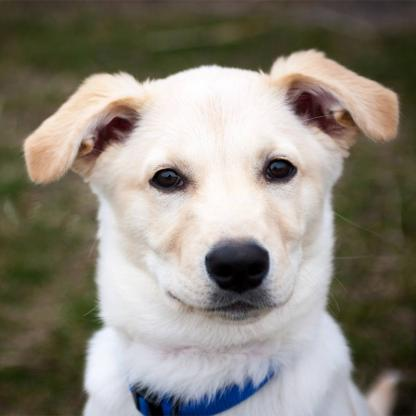Labarador Retriever: (23, 49, 400, 416)
